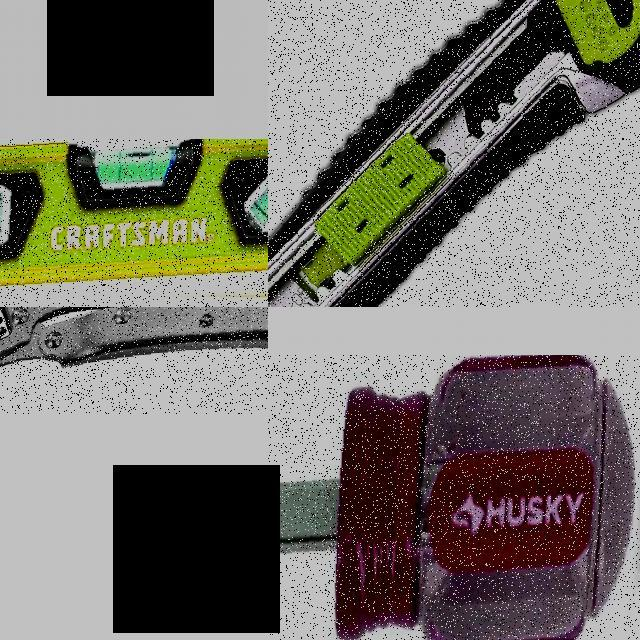estilete: (269, 0, 639, 306)
